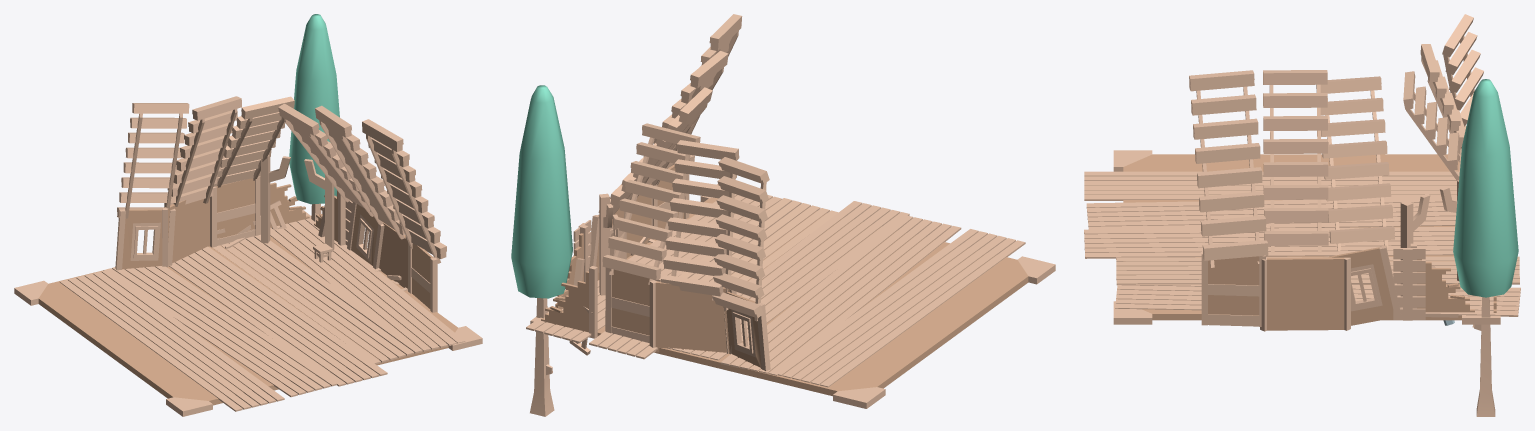
The model's file is Treehouse.fbx.
The picture shows the model from 3 angles, left to right: view 1: azimuth 30°, elevation 25°; view 2: azimuth 150°, elevation 25°; view 3: azimuth 270°, elevation 25°; orthographic projection. The views are drawn at different scales.
Visible parts, largest first — view 1: stairsWideWood.005; view 2: stairsWideWood.005; view 3: stairsWideWood.005.
Boxes of the visible parts, x1,y1,x2,y2 form: stairsWideWood.005: [14, 14, 482, 416]; stairsWideWood.005: [511, 14, 1055, 416]; stairsWideWood.005: [1084, 14, 1520, 416].
Bounding box in the file's own units: 660 × 569 × 679.
